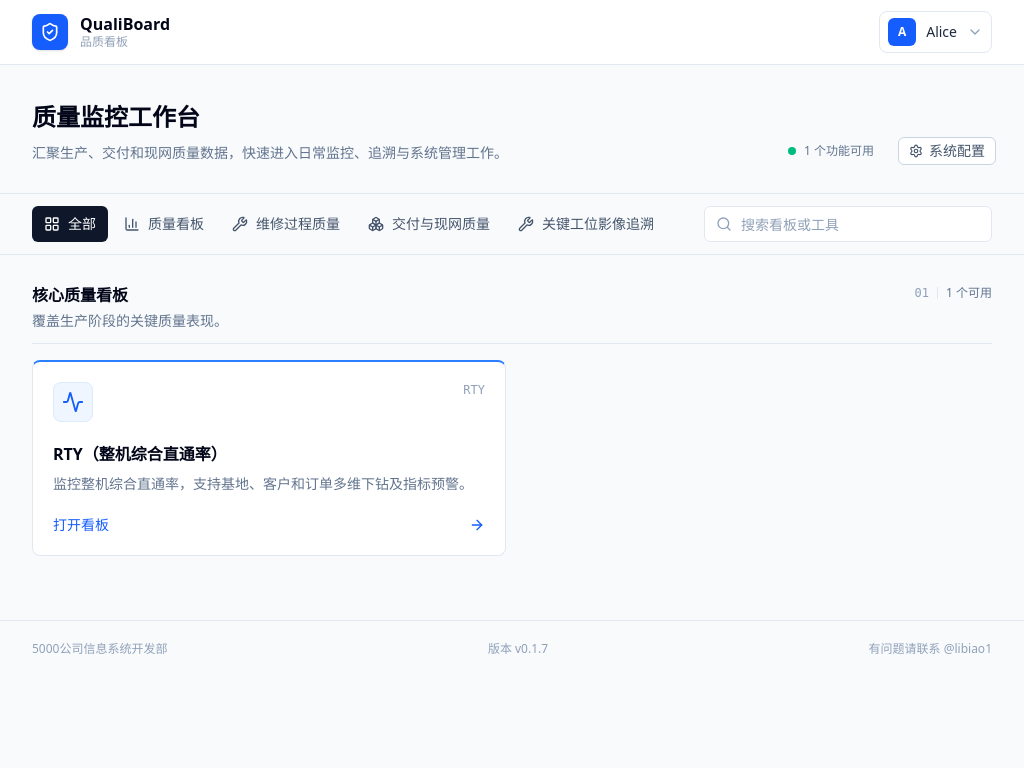
Test: home administrator settings access › hides the field quality section when the user has no visible dashboards in it
The width and height of the screenshot is (1024, 768).
Expected: the text "Alice" is shown, [926,22,957,42]
Click the tab "交付与现网质量" at {"x": 429, "y": 224}, box [356,206,502,242]
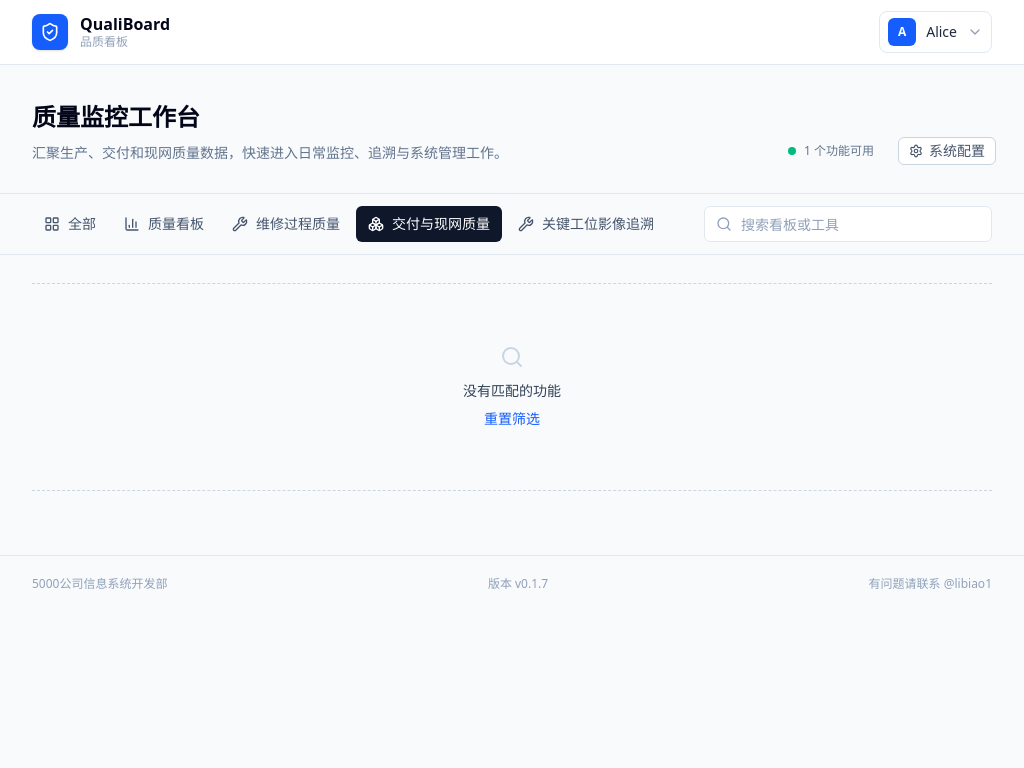
Now the text "没有匹配的功能" is shown, box [463,381,561,401]
